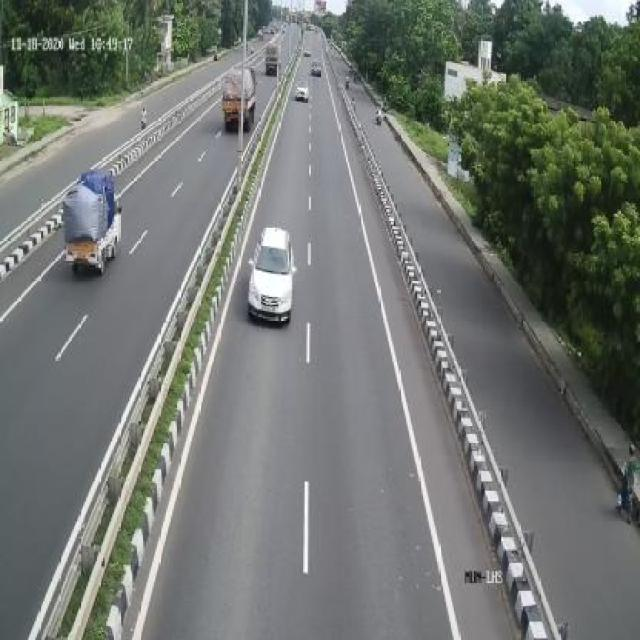car: (252, 225, 297, 328), (289, 79, 308, 106)
